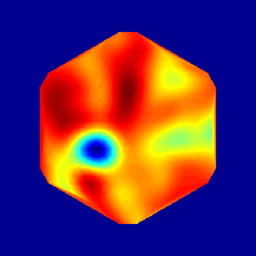ship: (78, 133, 114, 164)
wave: (100, 78, 172, 153)
